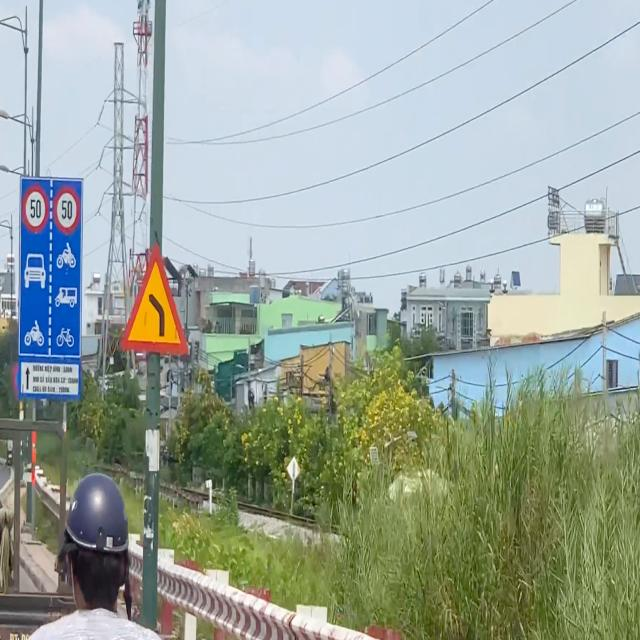Nguy hiem: (115, 236, 193, 361)
Toc do toi da: (20, 183, 48, 235), (54, 185, 80, 237)
